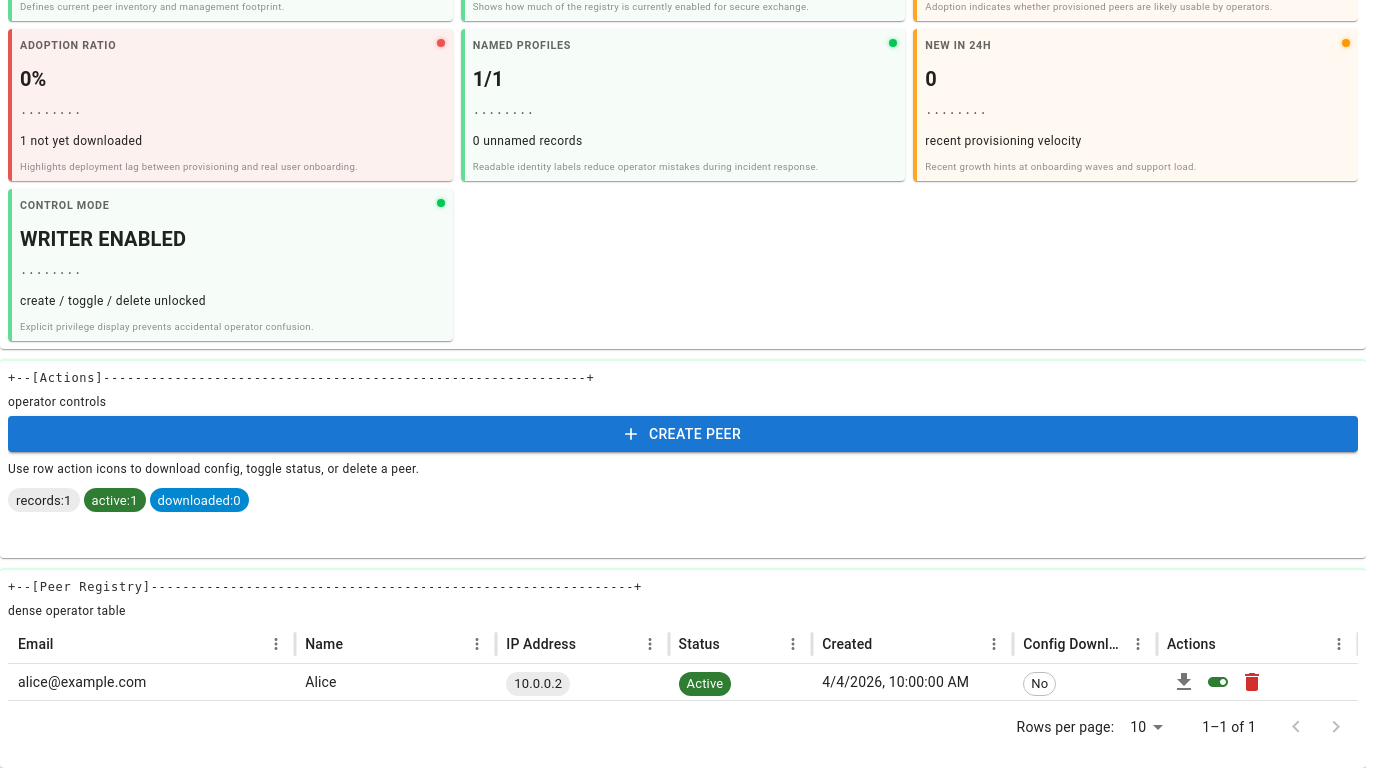
Test: Peers page › toggles a peer and shows status message
(page scrolled)
Expected: the text "alice@example.com" is shown, [18,674,146,690]
Click the button titled "Deactivate" at (1218, 682), box [1201,665,1235,699]
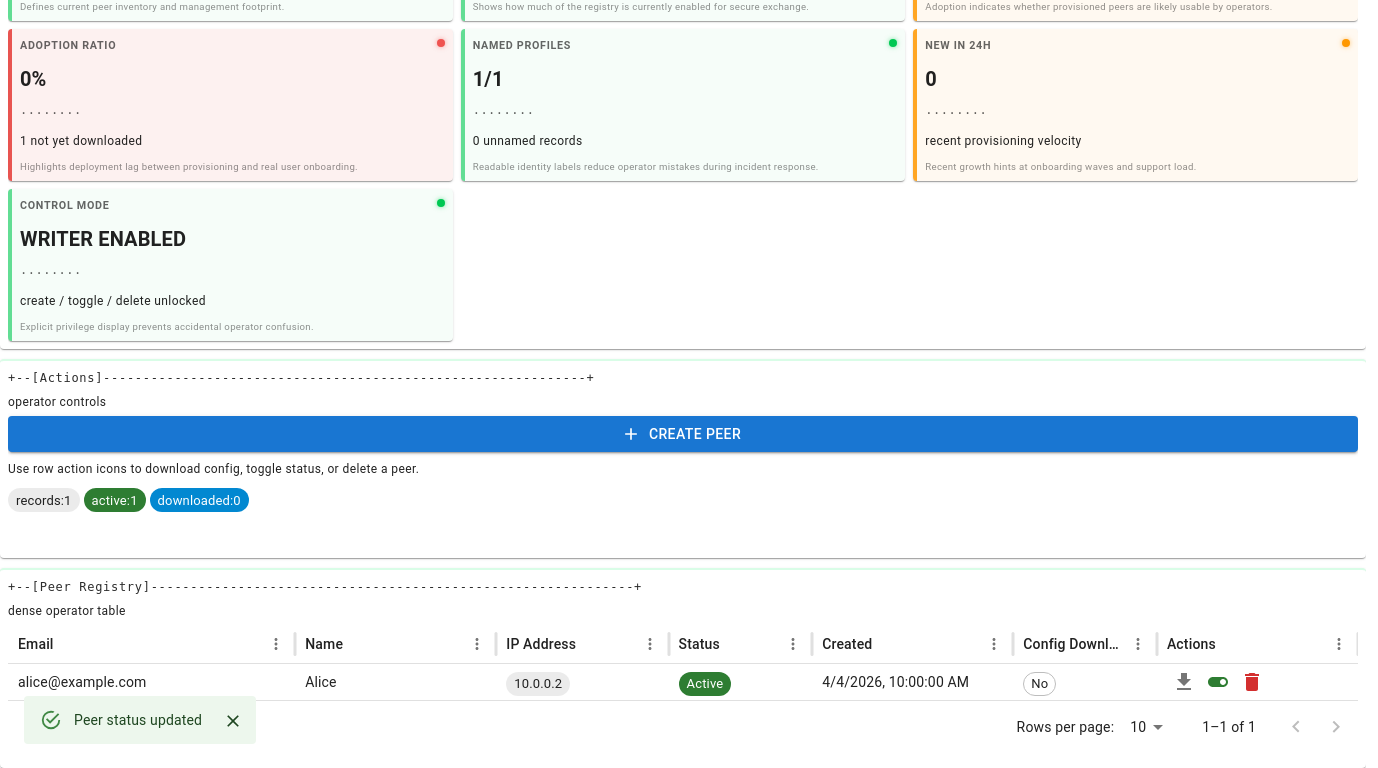
Expected: the text "Peer status updated" is shown, [74,712,202,728]
